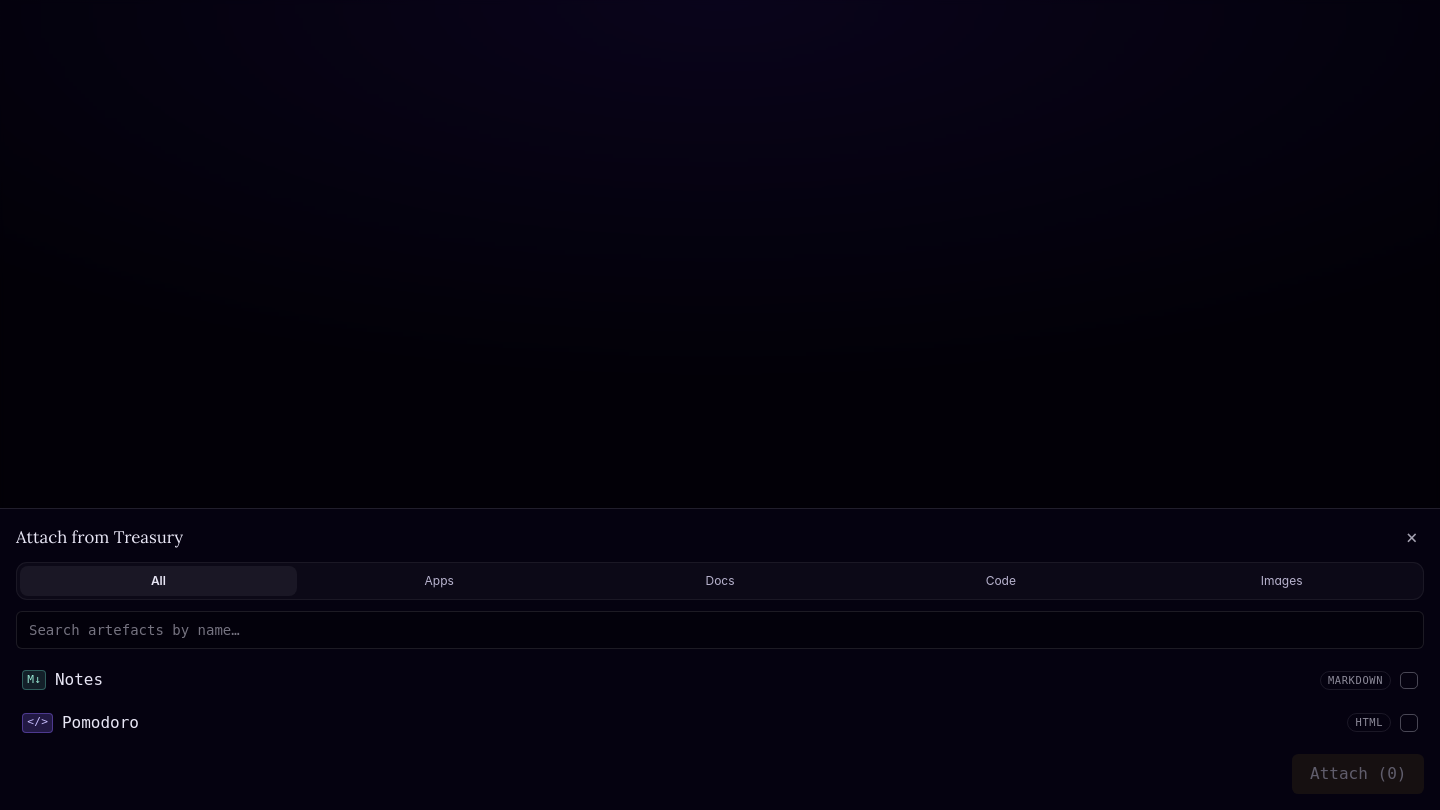
Test: ArtefactPicker › filters by type tab and by search
Expected: the text "Pomodoro" is shown, [62,713,139,732]
Click the tab "Docs": click(720, 581) [582,566,858,596]
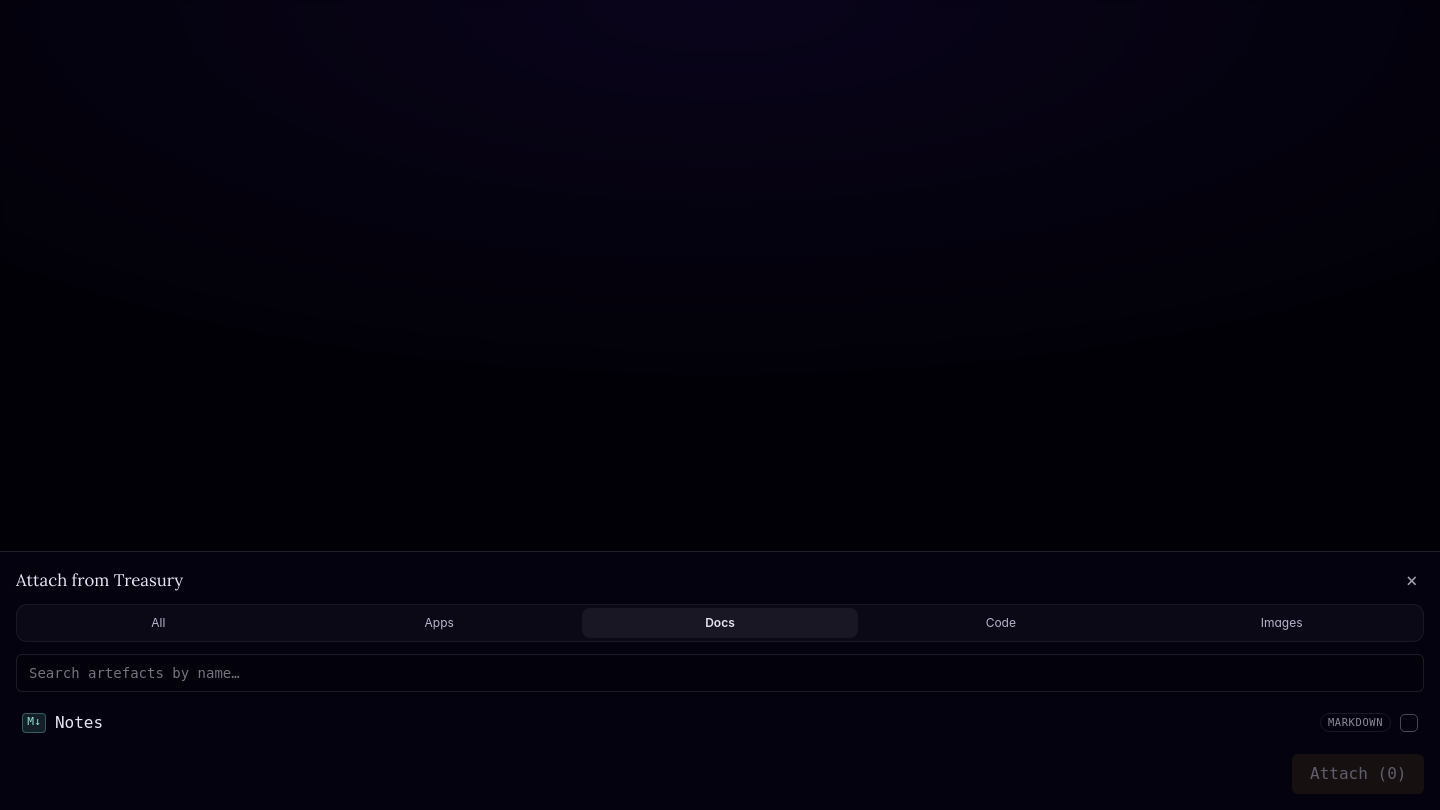
Expected: the text "Notes" is shown, [55,713,103,732]
Result: the button "Pomodoro" is gone
Click the tab "All": click(158, 623) [20,608,297,638]
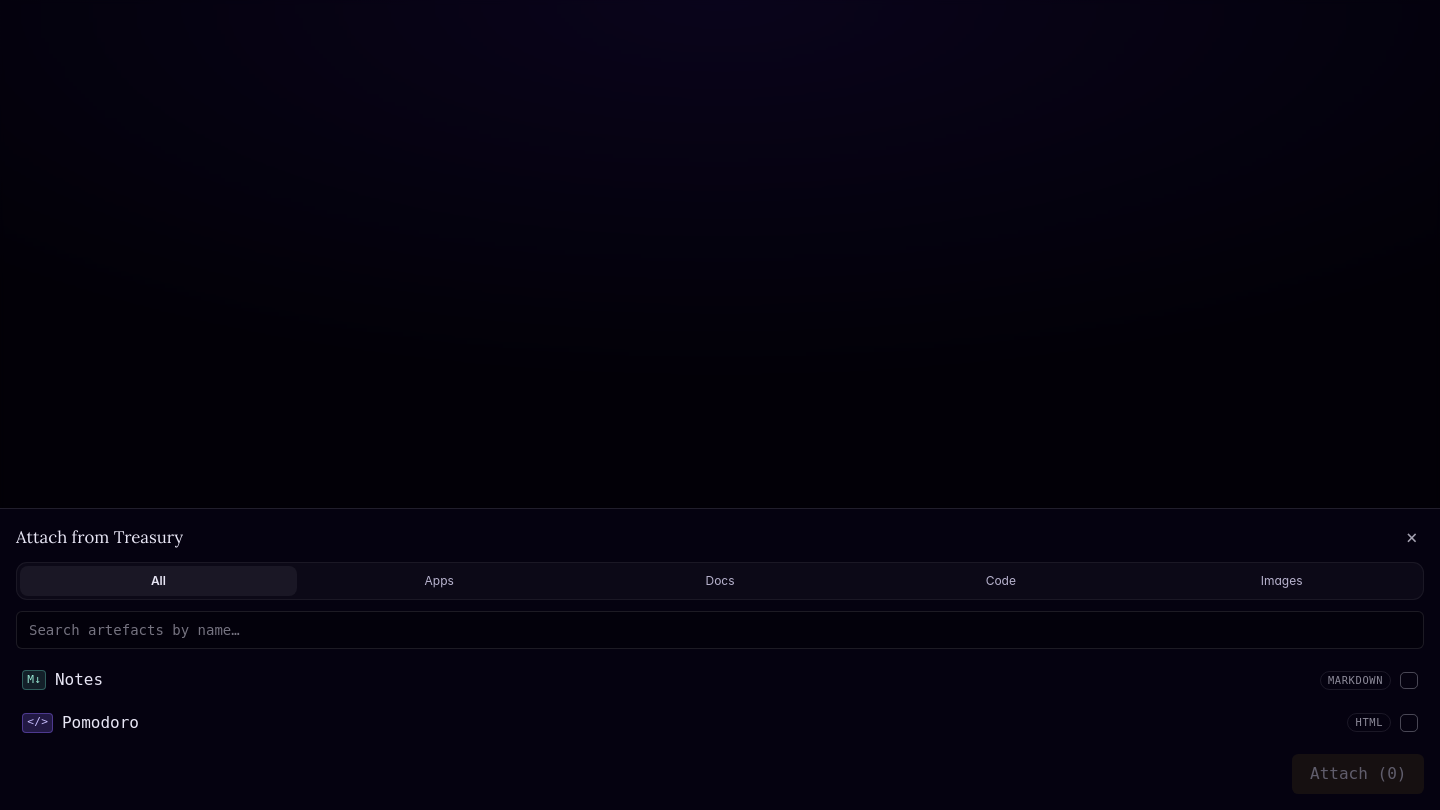
In the search field with placeholder "Search artefacts by name…": (720, 630) [16,611,1424,649], type "pomo"
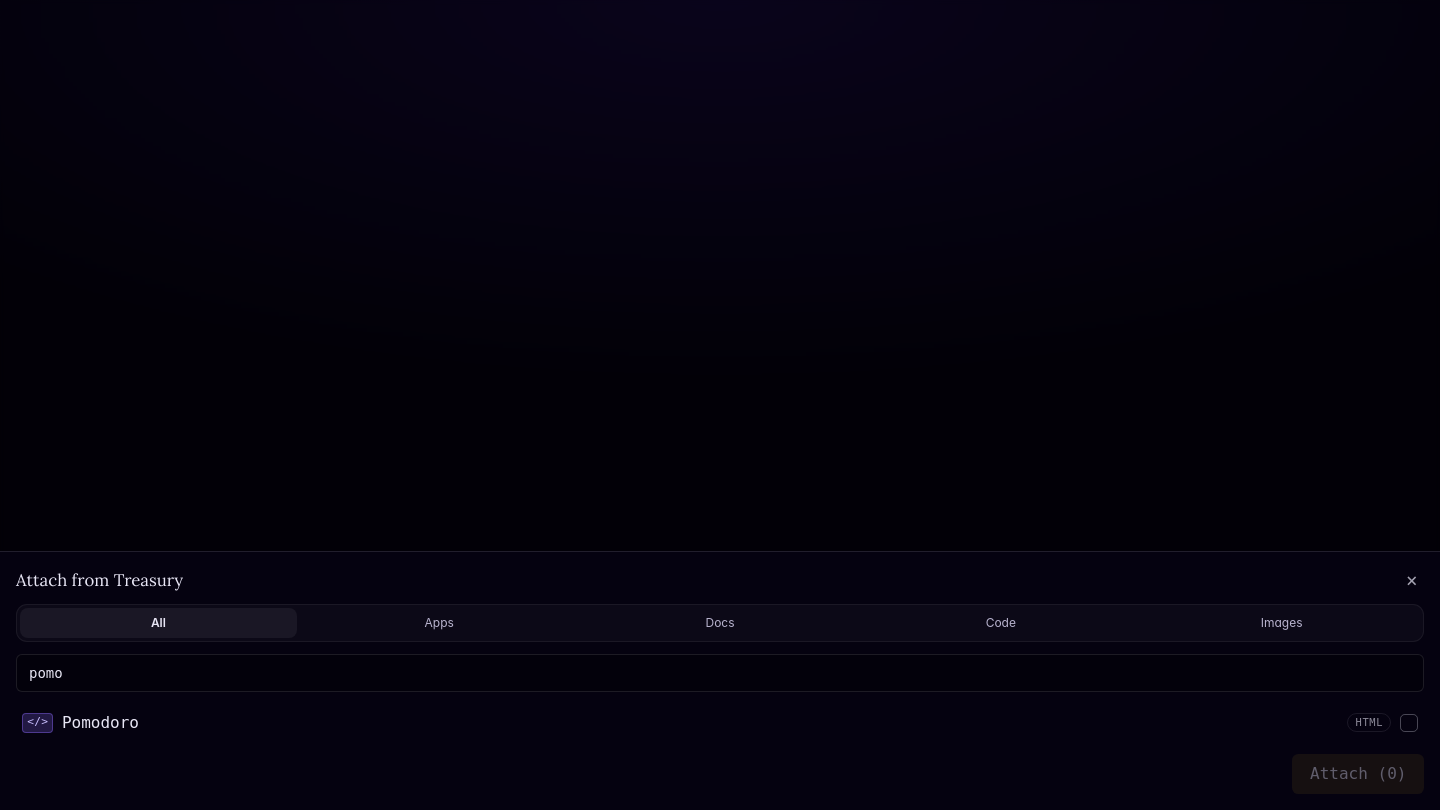
Result: the text "Pomodoro" is shown at [62,713,139,732]
Result: the button "Notes" is gone
